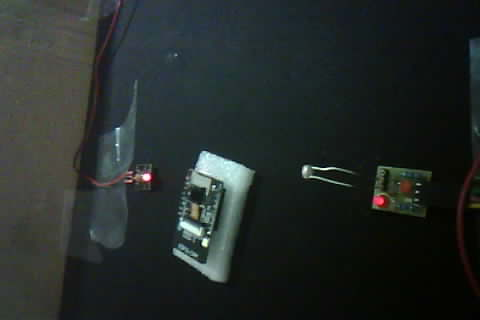esp32: (170, 148, 241, 273)
